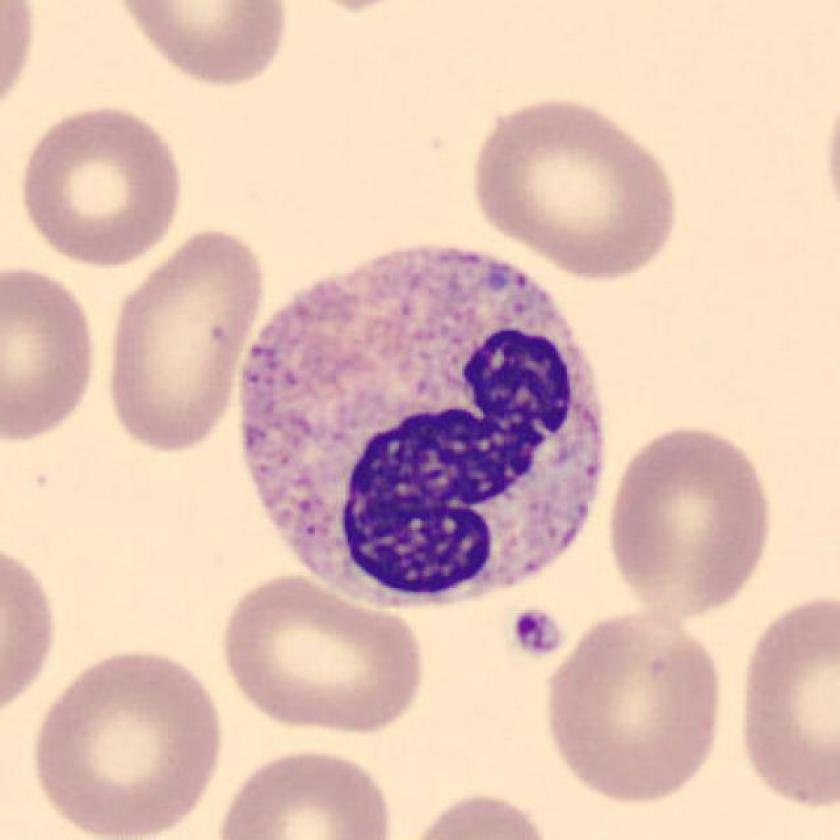neutrophil: (240, 249, 602, 607)
